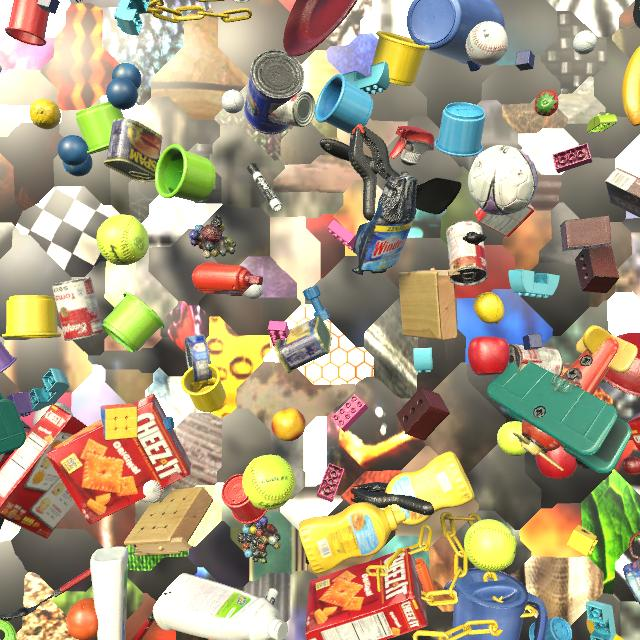ycb_002_master_chef_can: (244, 50, 305, 135)
ycb_003_cracker_box: (46, 394, 191, 525), (0, 404, 87, 539), (305, 548, 428, 640), (627, 412, 640, 452)
ycb_005_tomato_soup_can: (52, 277, 104, 341), (446, 220, 488, 286), (508, 344, 563, 376), (268, 91, 315, 127), (233, 0, 249, 3)
ycb_006_mustard_bottle: (299, 502, 406, 573), (381, 451, 475, 526)
ycb_007_tuna_fish_can: (184, 334, 212, 382), (623, 559, 640, 604)
ycb_008_pudding_box: (605, 168, 640, 218)
ycb_009_gelatin_box: (474, 204, 535, 237)
ycb_010_potted_meat_can: (104, 118, 162, 182), (275, 316, 332, 373)
ycb_011_banana: (622, 46, 640, 126), (586, 618, 625, 640)
ycb_012_strawberry: (534, 90, 559, 116)
ycb_013_apple: (468, 336, 510, 376), (535, 446, 577, 479)
ycb_014_lemon: (474, 292, 504, 324), (30, 99, 61, 129)
ycb_015_peach: (271, 408, 306, 441)
ycb_017_orange: (66, 598, 98, 640)
